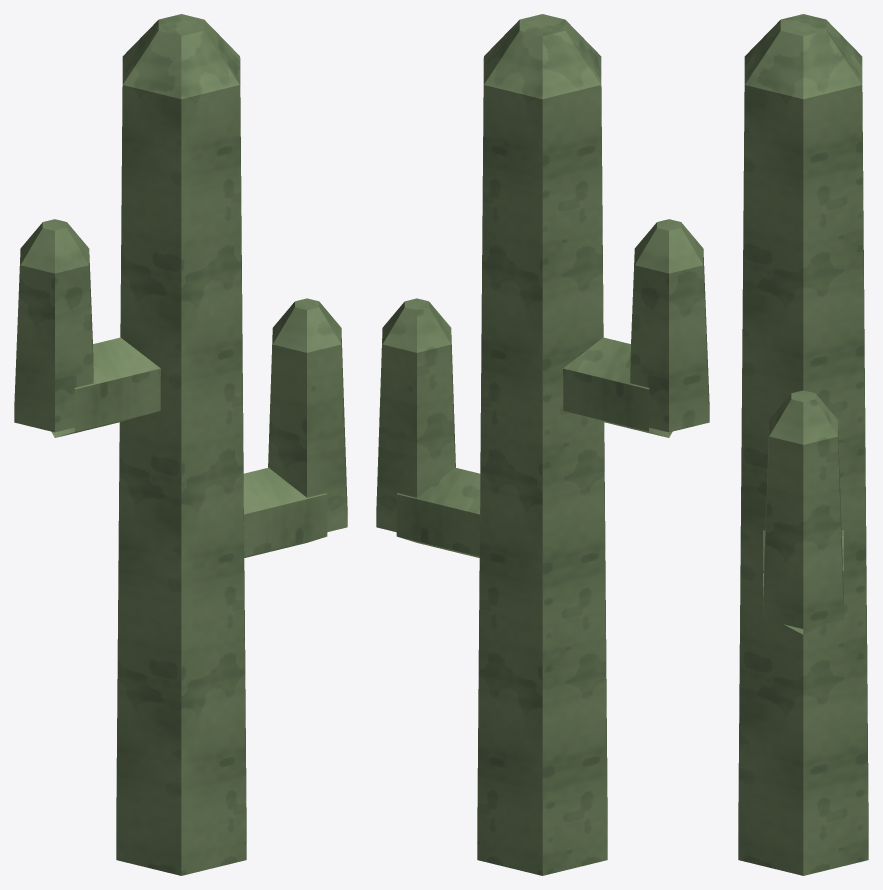
The model's file is cactus_a.glb.
3 renders of one model, left to right at view 1: azimuth 30°, elevation 25°; view 2: azimuth 150°, elevation 25°; view 3: azimuth 270°, elevation 25°, orthographic.
Visible parts, largest first — view 1: CactusA; view 2: CactusA; view 3: CactusA.
Part boxes in pixels (box(x1,y1,x2,y2)): CactusA: box(14, 14, 347, 875); CactusA: box(376, 14, 709, 875); CactusA: box(738, 14, 868, 875).
Bounding box in the file's own units: 1.07 × 2.52 × 0.3637.
Materials: 1 (1 with a texture image).
